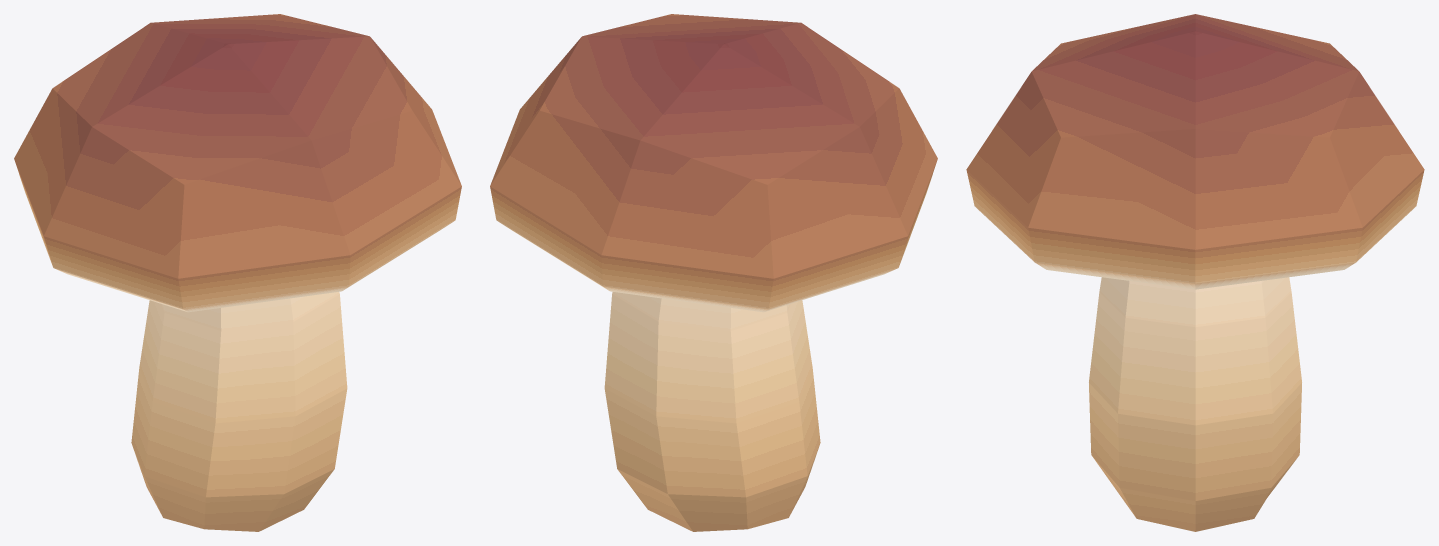
Rendered from Large_KingBolete.glb.
3 renders of one model, left to right at view 1: azimuth 30°, elevation 25°; view 2: azimuth 150°, elevation 25°; view 3: azimuth 270°, elevation 25°, orthographic.
Parts seen in each view (by area): view 1: KingB_large; view 2: KingB_large; view 3: KingB_large.
Part boxes in pixels (x1,y1,x2,y2): KingB_large: [14, 14, 461, 531]; KingB_large: [490, 14, 937, 531]; KingB_large: [966, 14, 1424, 531].
Bounding box in the file's own units: 7.82 × 9.18 × 7.85.
Materials: 1 (1 with a texture image).
